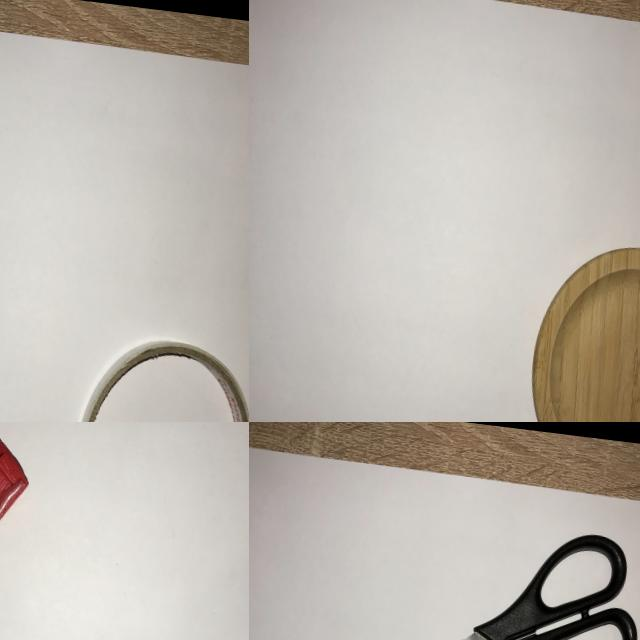car: (0, 422, 43, 534)
cup_holder: (512, 229, 640, 422)
scissors: (302, 495, 640, 640)
scotch: (53, 324, 249, 422)
